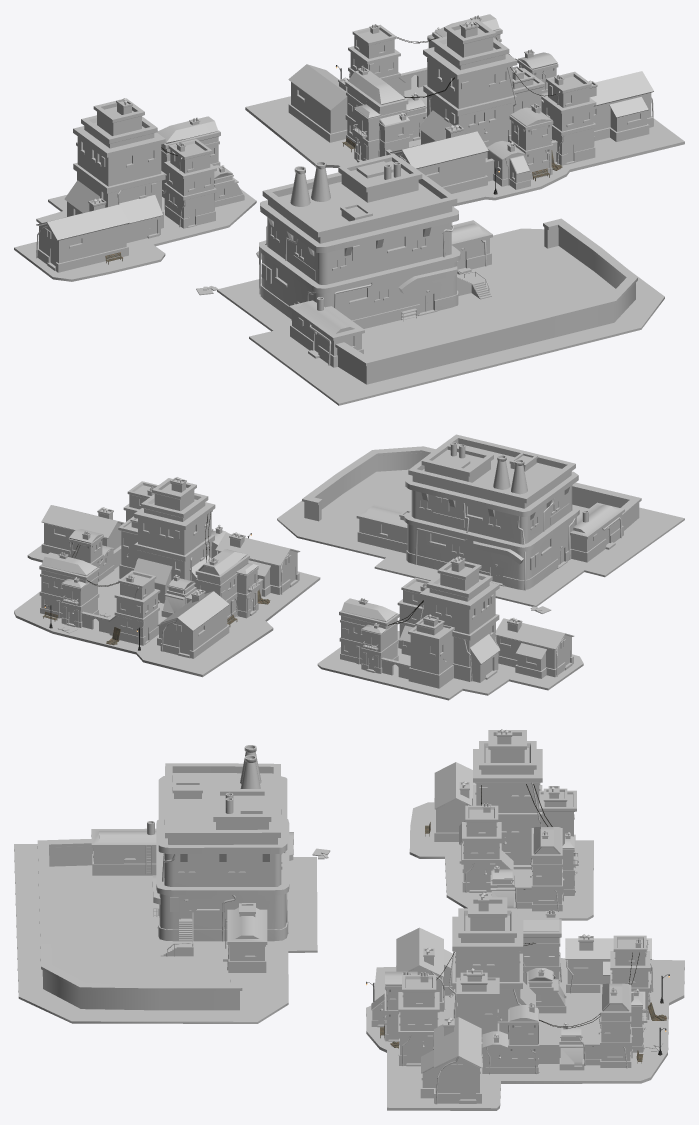
File: buildingsA.fbx
The picture shows the model from 3 angles, top to bottom: view 1: azimuth 30°, elevation 25°; view 2: azimuth 150°, elevation 25°; view 3: azimuth 270°, elevation 25°; orthographic projection. The views are drawn at different scales.
Visible parts, largest first — view 1: block3, floor, building5_1, building5, pavement_2, building2_2_3, sideblock1_1, pavement, building1_1, building4, sideblock1_2, building4_2 (+6 smaller); view 2: block3, floor, building5, building5_1, pavement_2, building2_2_3, building2_2, building2_2_2, pavement, sideblock1_1, sideblock1_1_2, building4_2_2 (+5 smaller); view 3: block3, floor, pavement_2, building5_1, building5, building2_2_2, building2_2, pavement, sideblock1, building1_2, building2_2_3, building4 (+6 smaller).
Boxes of the visible parts, x1=… form: block3: x1=256, y1=153, x2=637, y2=384; floor: x1=217, y1=228, x2=664, y2=405; building5_1: x1=418, y1=19, x2=544, y2=158; building5: x1=64, y1=98, x2=165, y2=242; pavement_2: x1=245, y1=75, x2=684, y2=206; building2_2_3: x1=345, y1=66, x2=426, y2=162; sideblock1_1: x1=36, y1=198, x2=129, y2=272; pavement: x1=14, y1=188, x2=256, y2=281; building1_1: x1=485, y1=103, x2=557, y2=189; building4: x1=162, y1=139, x2=216, y2=228; sideblock1_2: x1=390, y1=124, x2=488, y2=193; building4_2: x1=541, y1=71, x2=596, y2=165; block3: x1=302, y1=434, x2=641, y2=590; floor: x1=277, y1=469, x2=684, y2=606; building5: x1=408, y1=556, x2=499, y2=688; building5_1: x1=118, y1=477, x2=215, y2=603; pavement_2: x1=14, y1=545, x2=320, y2=677; building2_2_3: x1=161, y1=549, x2=263, y2=622; building2_2: x1=339, y1=598, x2=410, y2=679; building2_2_2: x1=39, y1=552, x2=111, y2=633; pavement: x1=317, y1=631, x2=583, y2=700; sideblock1_1: x1=495, y1=617, x2=574, y2=678; sideblock1_1_2: x1=157, y1=589, x2=229, y2=658; building4_2_2: x1=108, y1=570, x2=160, y2=645; block3: x1=37, y1=745, x2=293, y2=1010; floor: x1=14, y1=844, x2=317, y2=1023; pavement_2: x1=366, y1=958, x2=684, y2=1110; building5_1: x1=448, y1=892, x2=535, y2=1041; building5: x1=459, y1=729, x2=576, y2=869; building2_2_2: x1=559, y1=983, x2=647, y2=1070; building2_2: x1=490, y1=827, x2=578, y2=911; pavement: x1=409, y1=802, x2=593, y2=920; sideblock1: x1=420, y1=1017, x2=481, y2=1104; building1_2: x1=481, y1=1002, x2=560, y2=1074; building2_2_3: x1=517, y1=910, x2=566, y2=1013; building4: x1=462, y1=803, x2=513, y2=892.
Bounding box in the file's own units: 10443 × 2194 × 9653.
